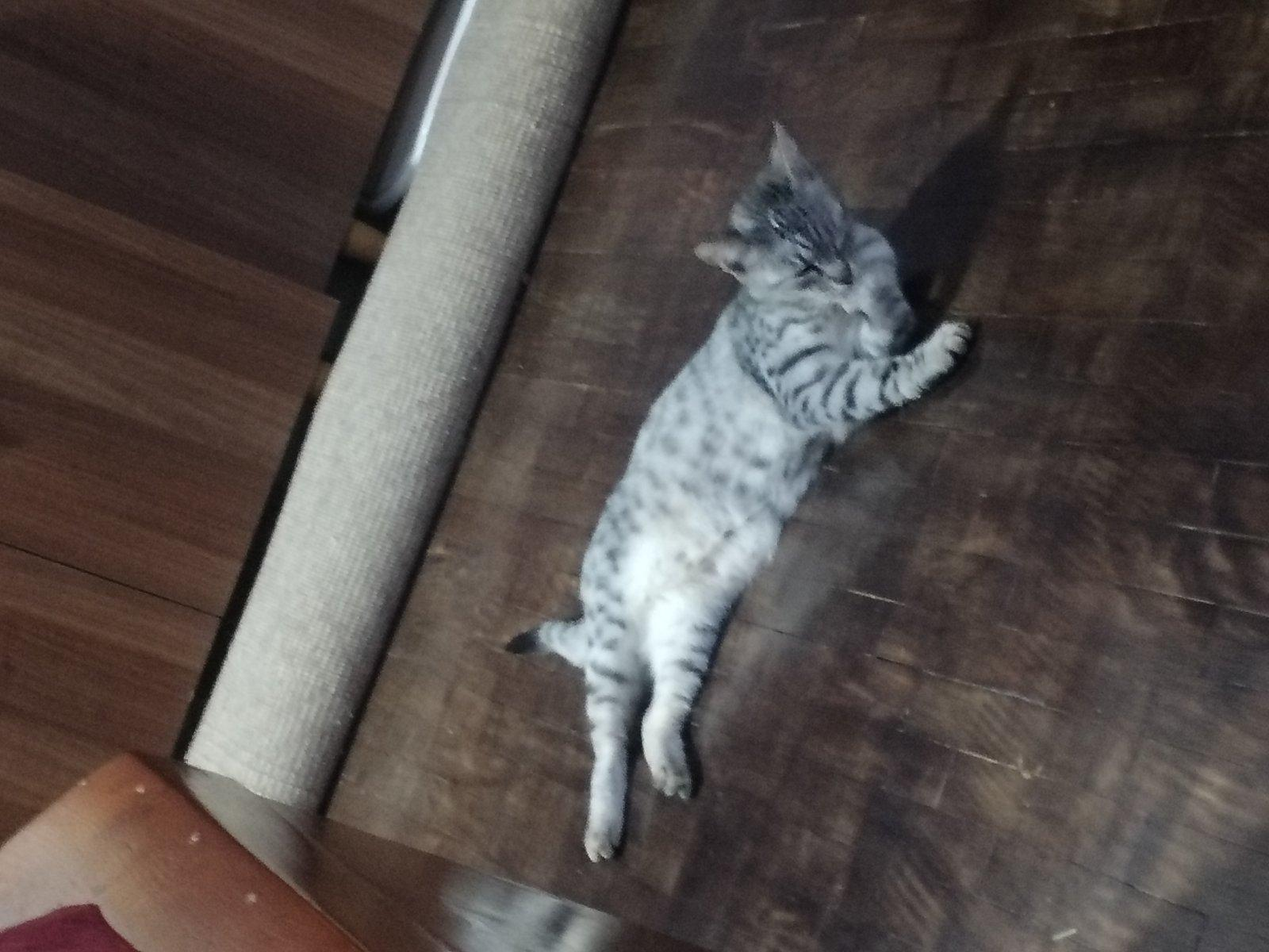macka: (494, 115, 978, 871)
